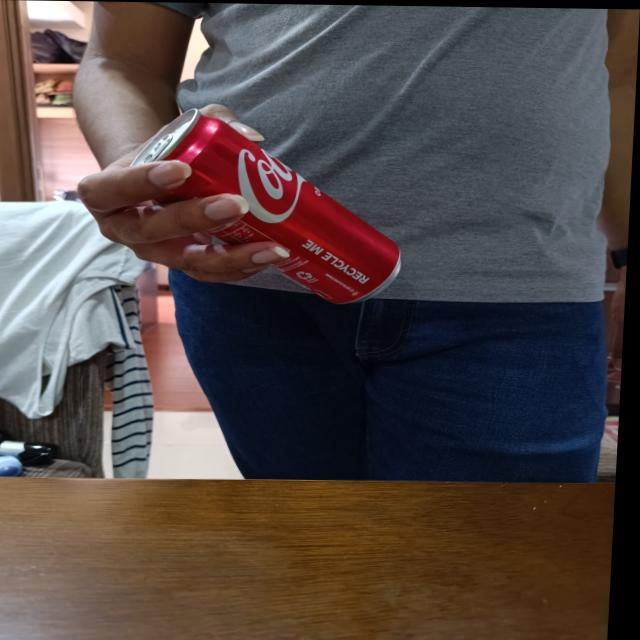coke: (129, 109, 409, 302)
